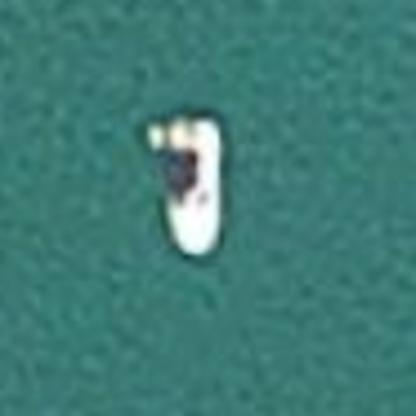ship: (135, 103, 241, 266)
